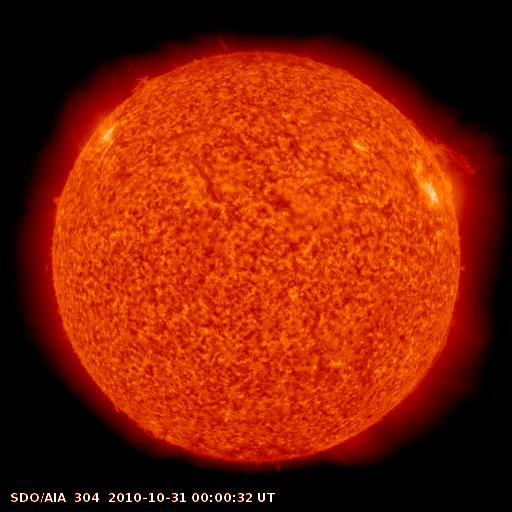prominence: (421, 125, 488, 185), (106, 399, 168, 444), (39, 181, 72, 223), (120, 68, 155, 101)
